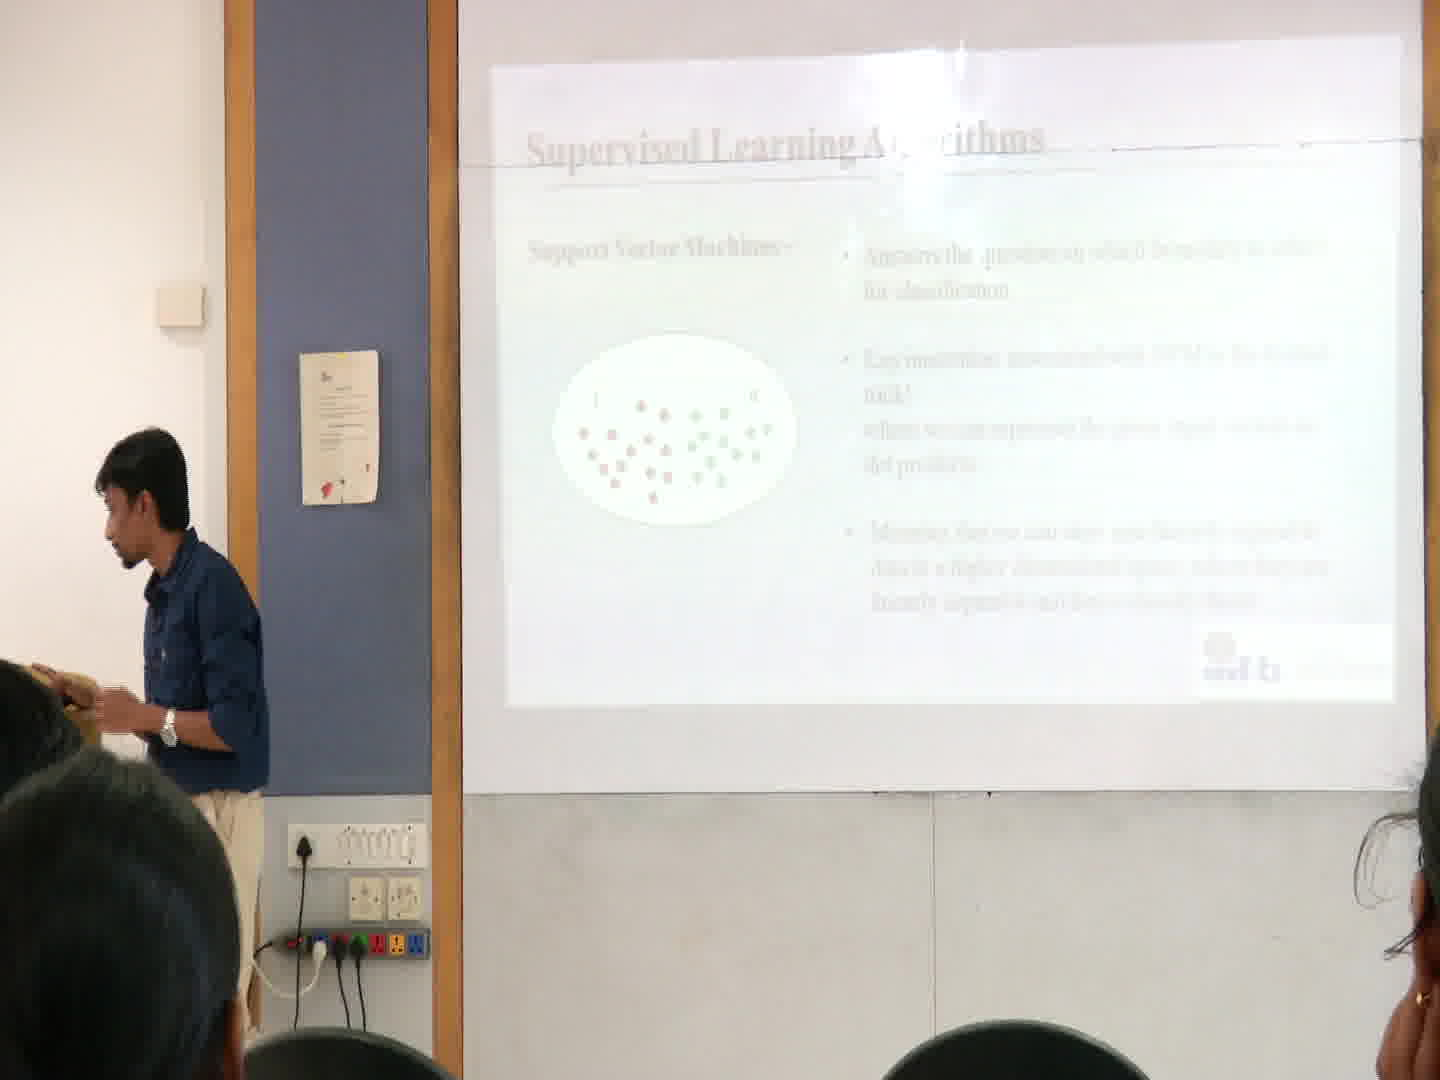slide: (492, 34, 1400, 704)
